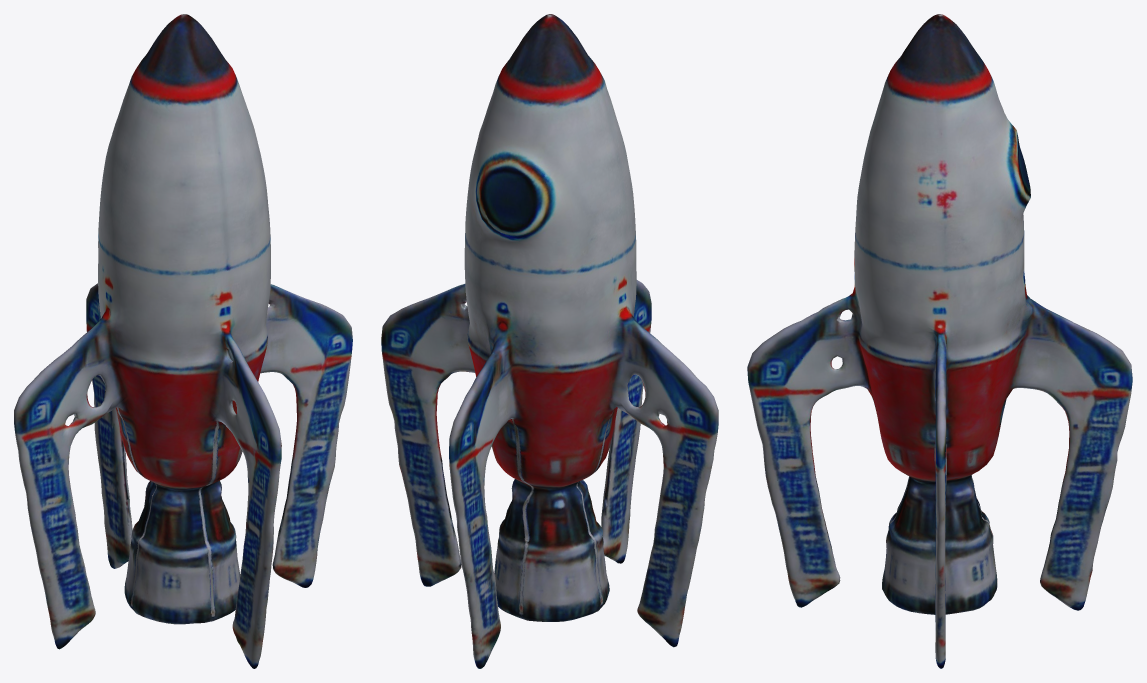
Rendered from rocket_simple.glb.
3 renders of one model, left to right at view 1: azimuth 30°, elevation 25°; view 2: azimuth 150°, elevation 25°; view 3: azimuth 270°, elevation 25°, orthographic.
Parts seen in each view (by area): view 1: mesh_base_material_0; view 2: mesh_base_material_0; view 3: mesh_base_material_0.
Boxes of the visible parts, box(x1,y1,x2,y2) form: mesh_base_material_0: box(14, 14, 352, 668); mesh_base_material_0: box(381, 14, 718, 668); mesh_base_material_0: box(747, 14, 1132, 668).
Bounding box in the file's own units: 0.5833 × 0.9971 × 0.5846.
1 material, 1 textured.
